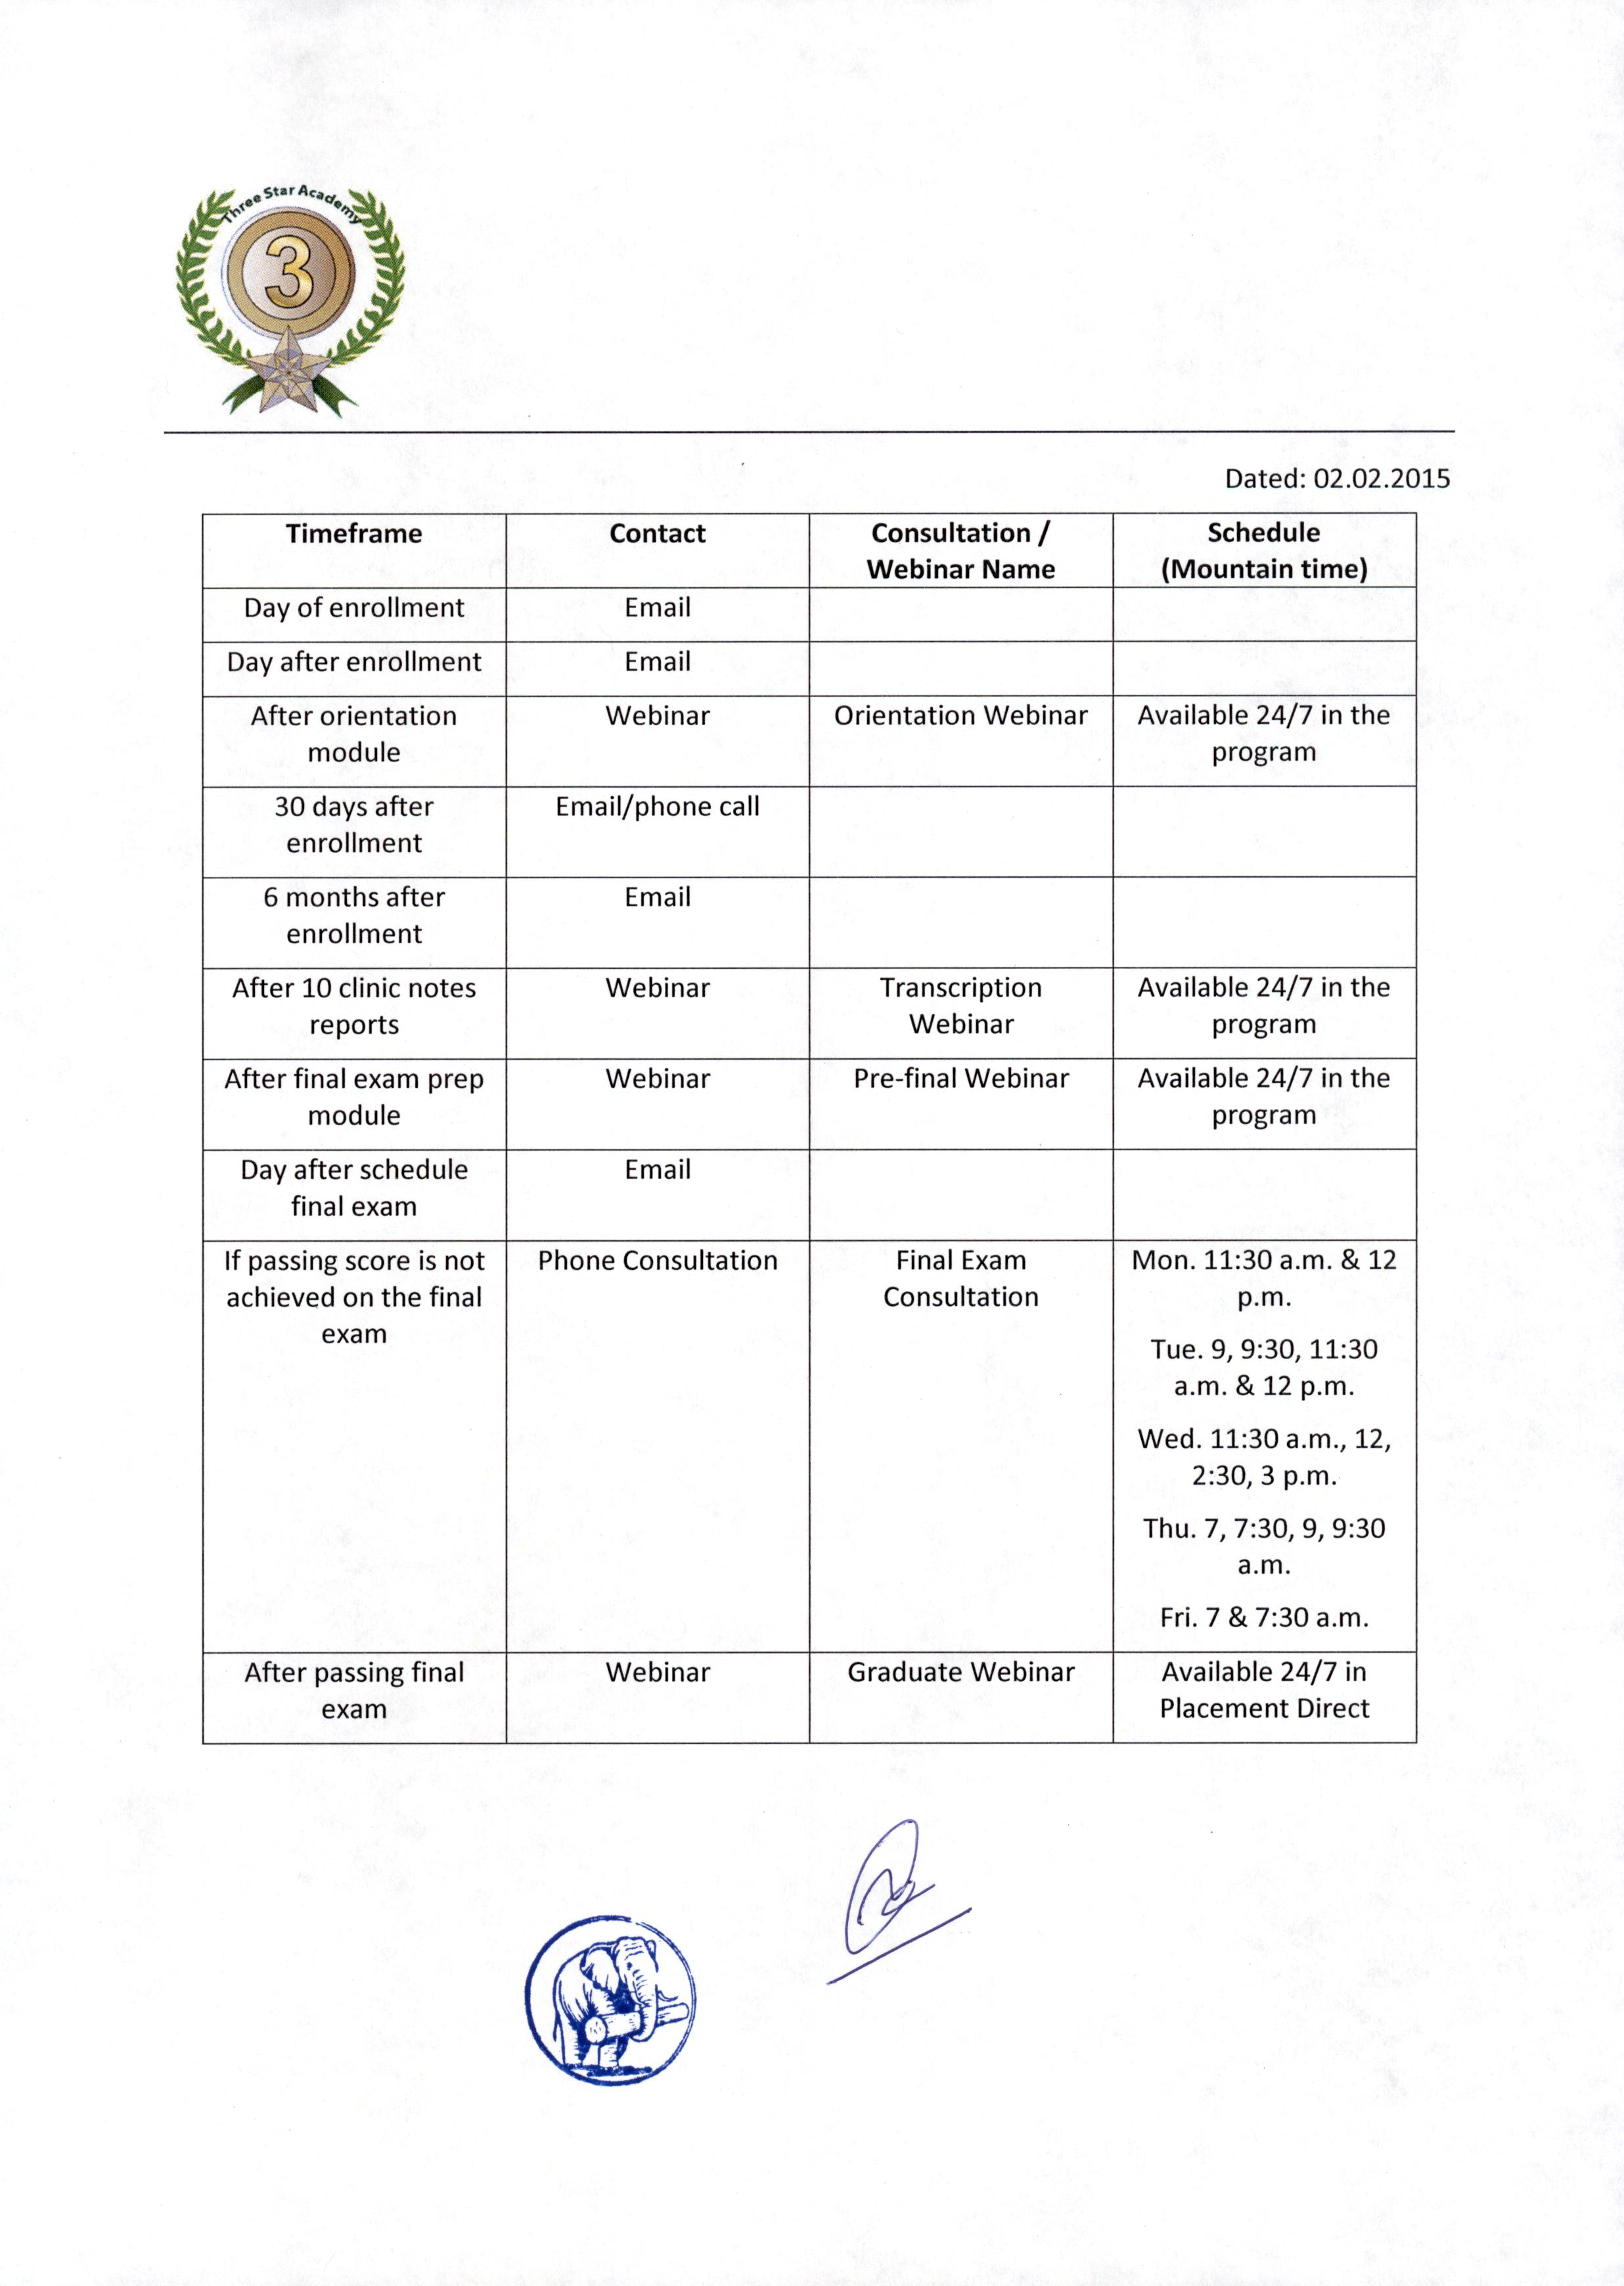Signature: (805, 1806, 982, 1993)
